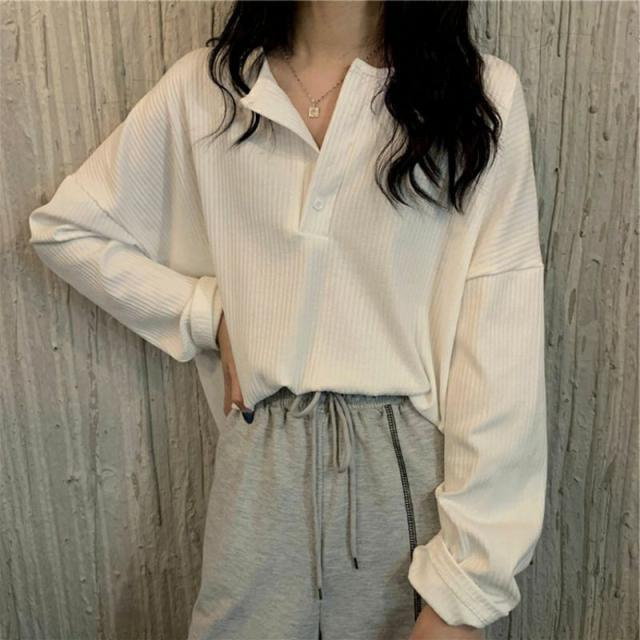Shirt: (26, 41, 549, 624)
